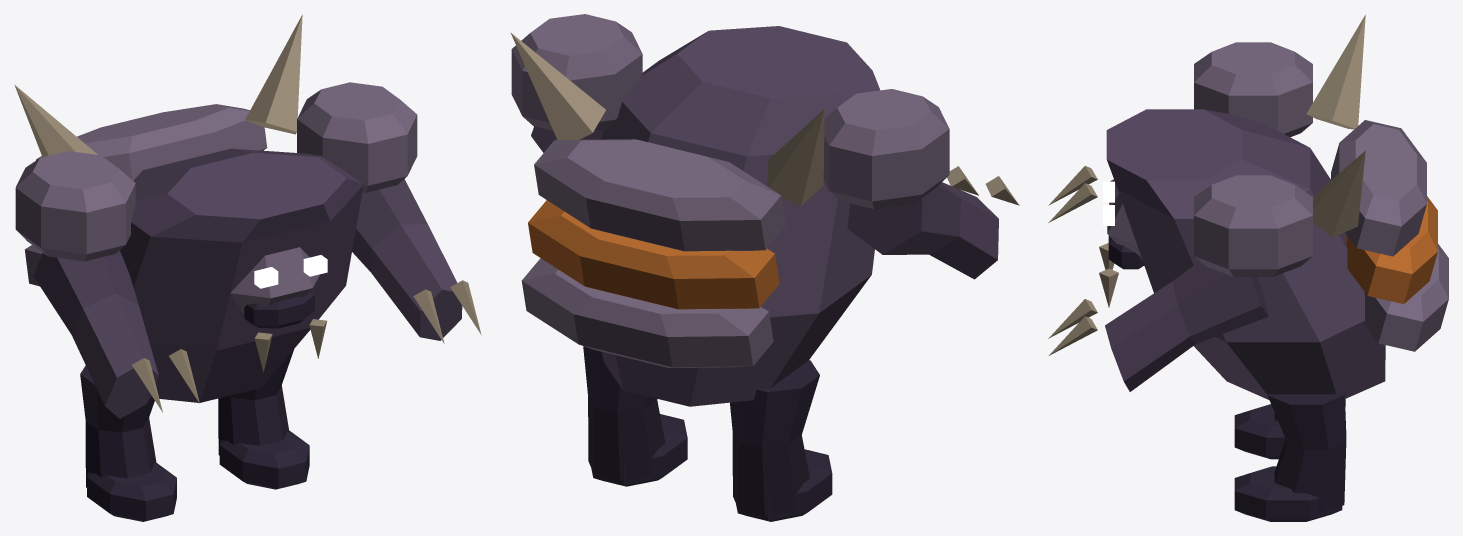
File: enemy_sieger.glb
3 renders of one model, left to right at view 1: azimuth 30°, elevation 25°; view 2: azimuth 150°, elevation 25°; view 3: azimuth 270°, elevation 25°, orthographic. The views are drawn at different scales.
Parts seen in each view (by area): view 1: body, arms, eyes; view 2: body, arms; view 3: body, arms, eyes.
Boxes of the visible parts, x1,y1,x2,y2 form: body: (14,14,363,521); arms: (15,82,481,418); eyes: (254,255,327,288); body: (510,26,879,521); arms: (511,14,1019,279); body: (1099,15,1448,521); arms: (1048,42,1312,391); eyes: (1103,181,1114,225).
Bounding box in the file's own units: 0.9625 × 0.998 × 0.9164.
